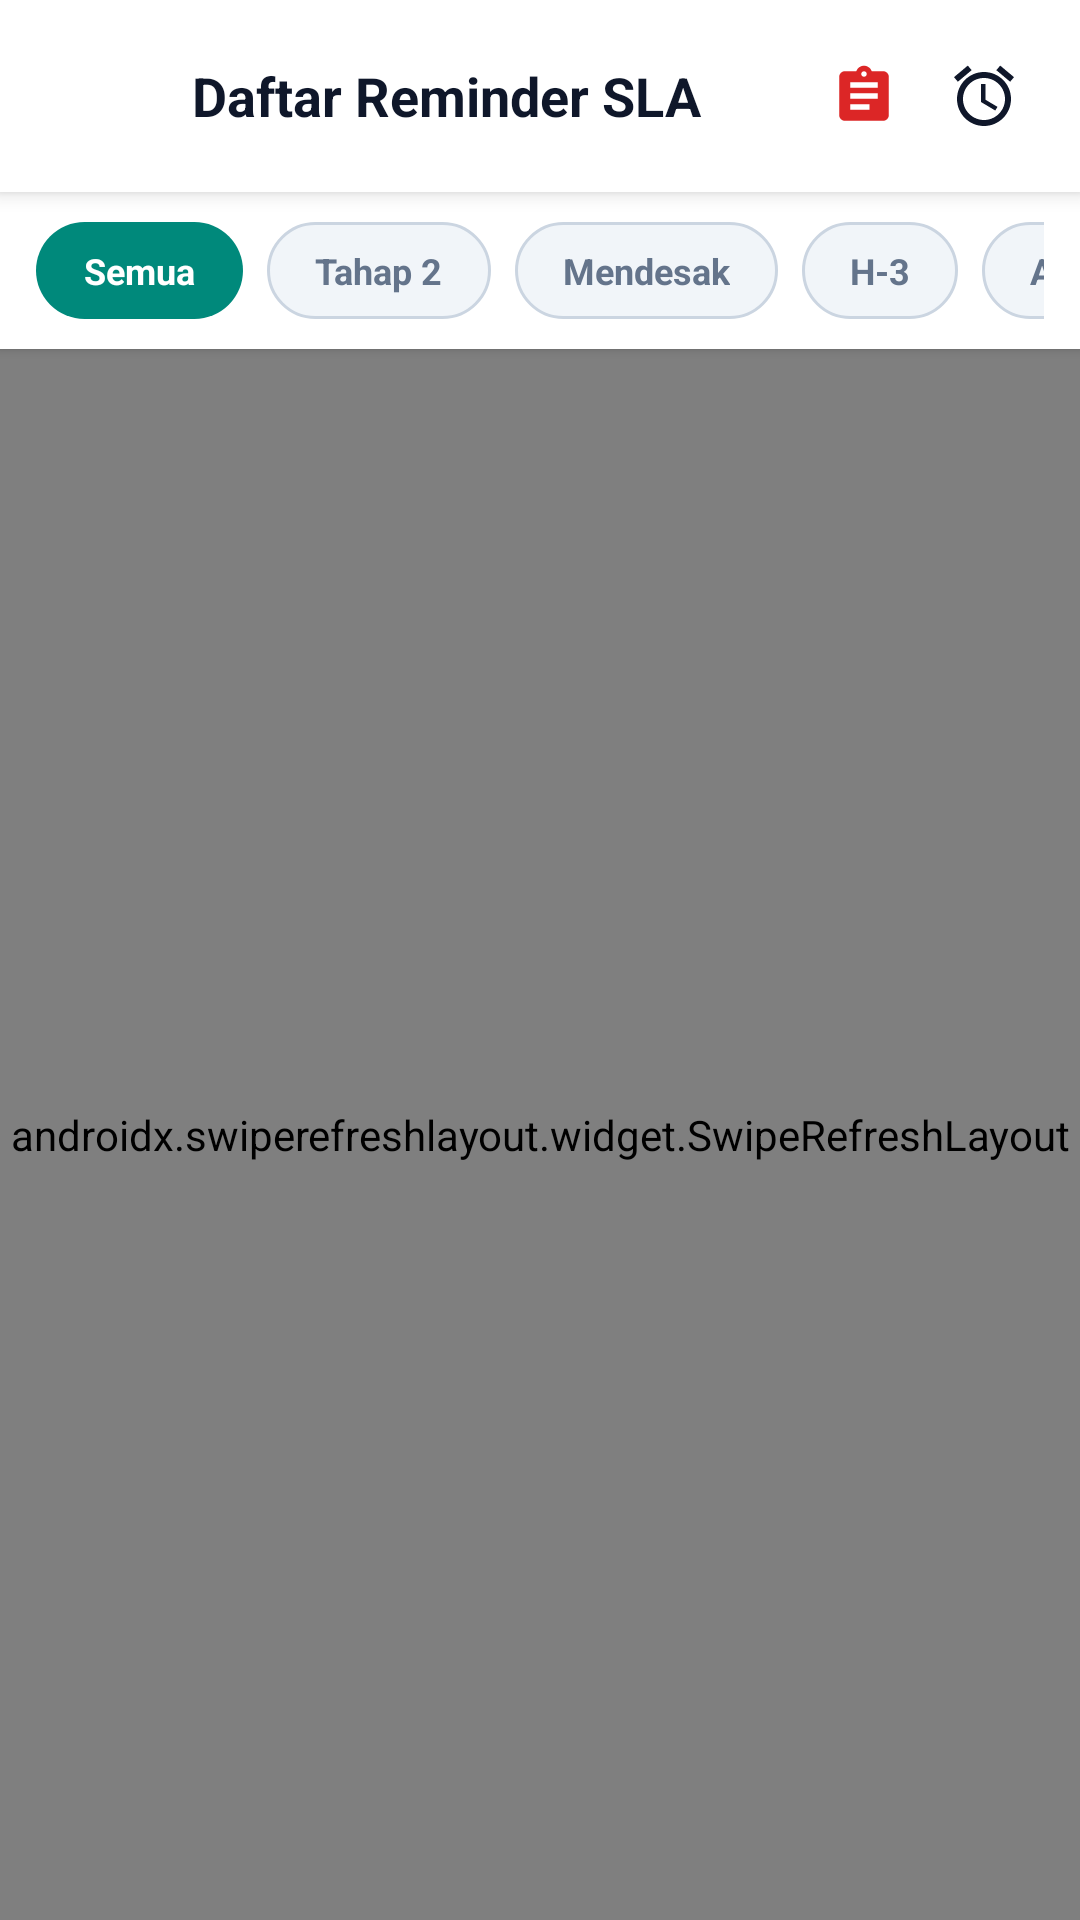

Screen size 1080*1920. Icon name, then its box in pixels as bbox=[x1, y1, x2, y2]:
Riwayat Log SLA: bbox=[839, 65, 889, 121]
